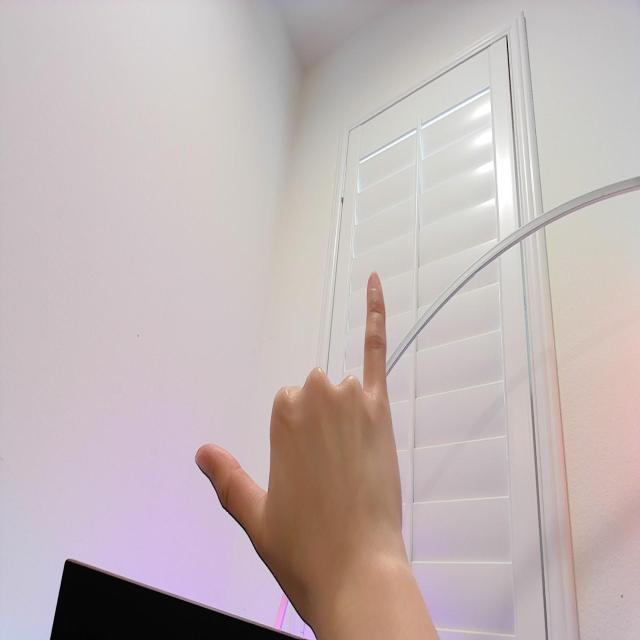Y: (194, 267, 409, 594)
